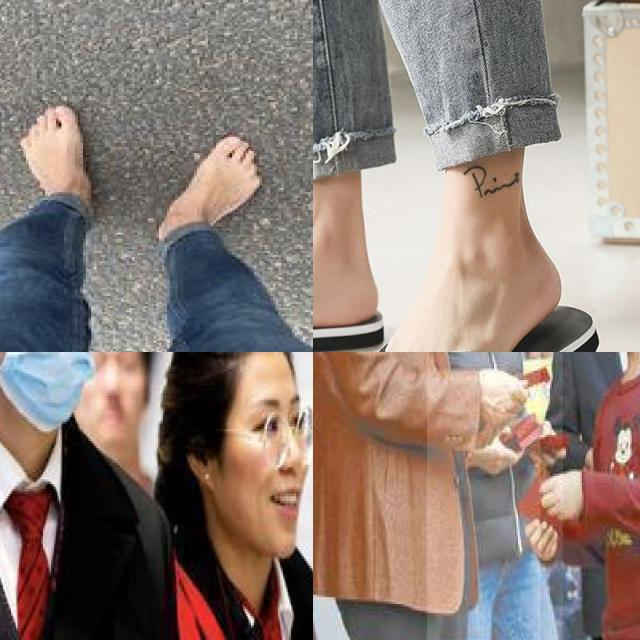Barefoots: (16, 106, 95, 211)
Sandals: (314, 227, 605, 352), (313, 267, 387, 352)
face_mask: (0, 352, 95, 433)
face_nomask: (216, 386, 310, 558), (78, 352, 147, 450)
glasses: (258, 400, 313, 469)
hand_noglove: (473, 355, 529, 435), (463, 434, 522, 484), (540, 468, 584, 523), (524, 517, 560, 563)
head_nohelmet: (201, 352, 294, 388)
person: (0, 352, 164, 640), (150, 352, 313, 640), (313, 352, 457, 640), (427, 352, 542, 640), (562, 352, 640, 640)
